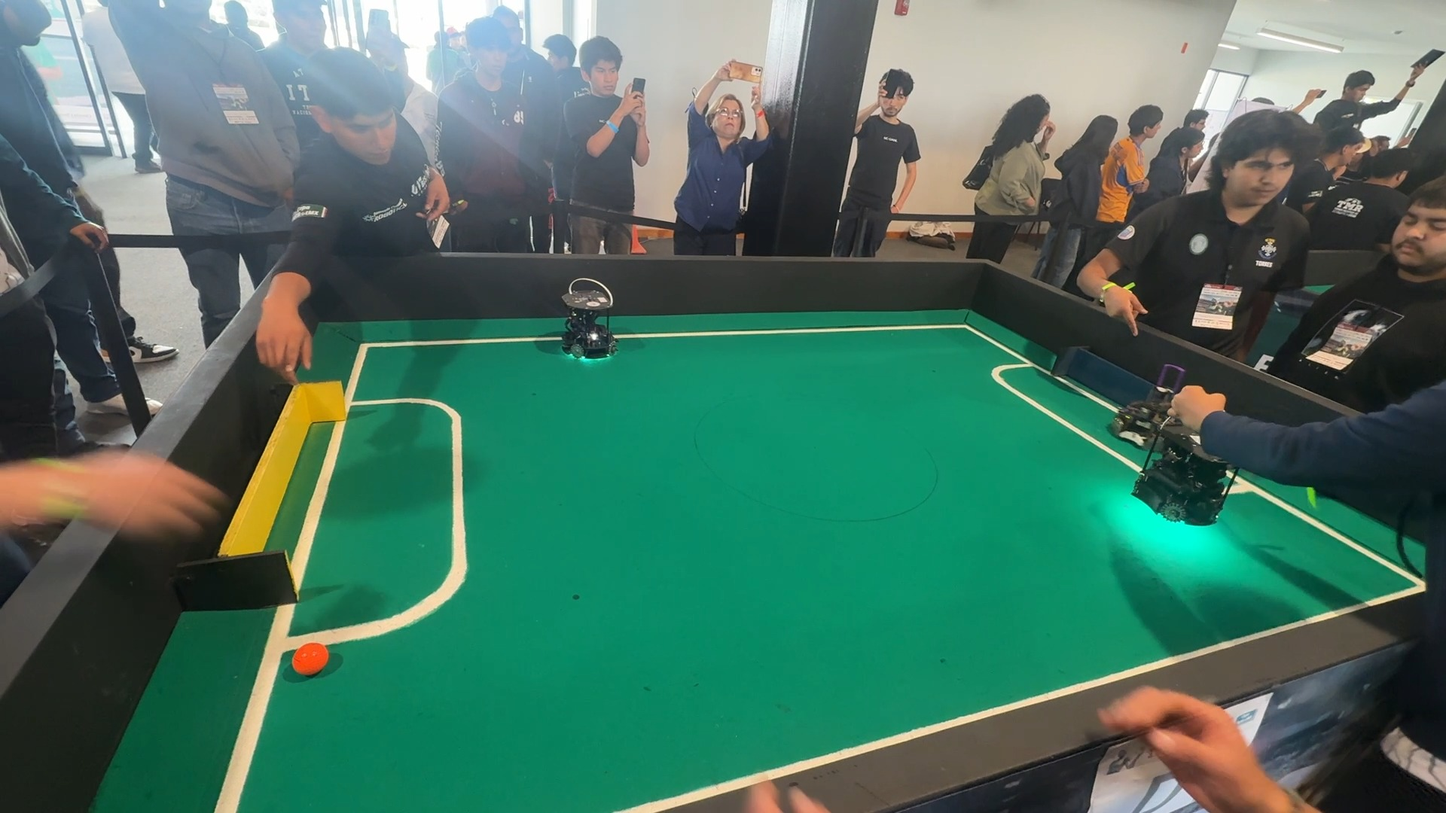Robot: (1113, 420, 1257, 544), (534, 276, 632, 373)
pelota: (290, 639, 342, 685)
